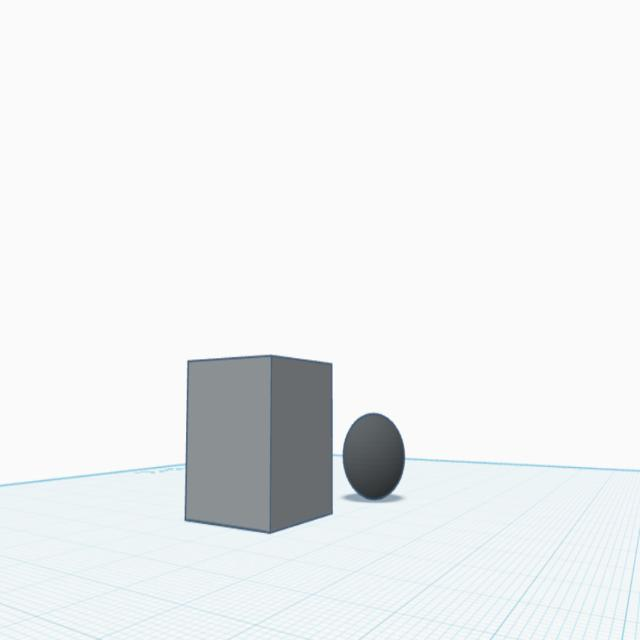cube: (182, 348, 336, 538)
sphere: (342, 412, 406, 502)
